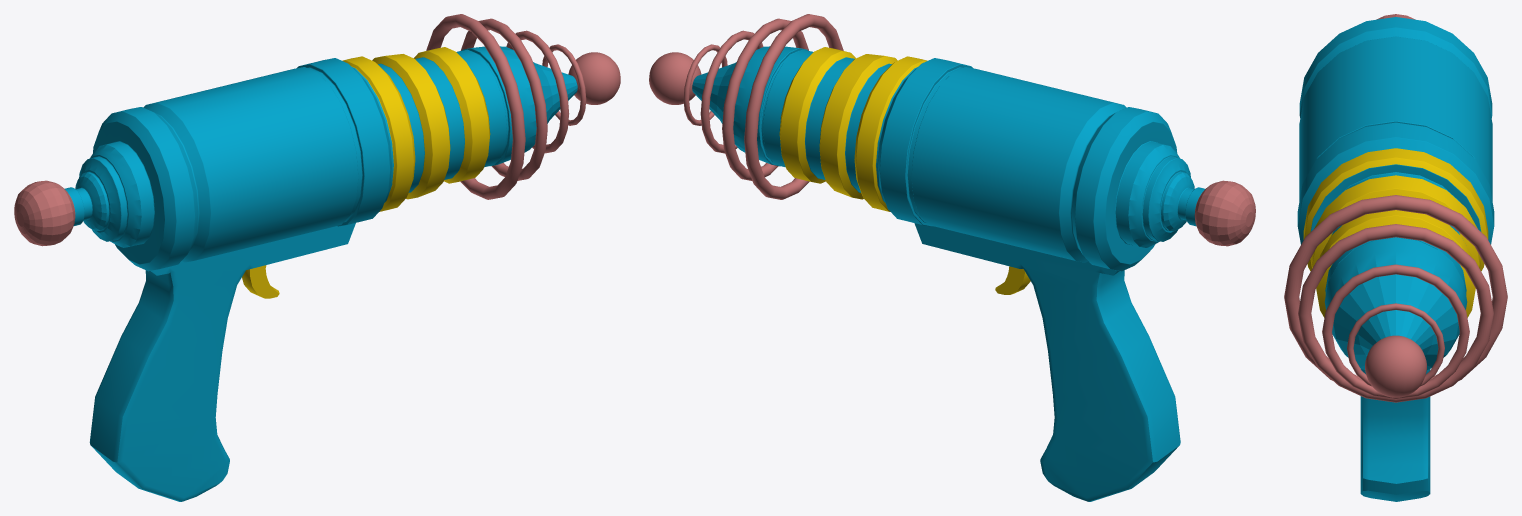
File: ShrinkGun.fbx
The picture shows the model from 3 angles, left to right: view 1: azimuth 30°, elevation 25°; view 2: azimuth 150°, elevation 25°; view 3: azimuth 270°, elevation 25°; orthographic projection. The views are drawn at different scales.
Visible parts, largest first — view 1: pCylinder3, polySurface1, pTorus4, pTorus3, pSphere1, pTorus2, polySurface2, pTorus1; view 2: pCylinder3, polySurface1, pTorus4, pTorus3, pSphere1, pTorus2, pTorus1; view 3: pCylinder3, polySurface1, pTorus3, pTorus4, pTorus2, pSphere1, pTorus1.
Boxes of the visible parts, x1,y1,x2,y2 form: pCylinder3: (14,46,577,271); polySurface1: (89,223,355,501); pTorus4: (426,14,525,199); pTorus3: (460,18,547,180); pSphere1: (568,52,620,104); pTorus2: (506,30,569,153); polySurface2: (242,265,279,298); pTorus1: (542,44,586,125); pCylinder3: (692,46,1255,271); polySurface1: (914,223,1180,501); pTorus4: (744,14,843,199); pTorus3: (722,18,808,180); pSphere1: (649,52,701,104); pTorus2: (700,30,763,153); pTorus1: (683,44,727,125); pCylinder3: (1297,14,1494,369); polySurface1: (1360,368,1430,501); pTorus3: (1298,224,1493,402); pTorus4: (1284,195,1507,380); pTorus2: (1322,264,1469,399); pSphere1: (1365,335,1426,397); pTorus1: (1347,303,1444,386).
Size of the model in its own units: 6.14 by 3.93 by 1.7.
